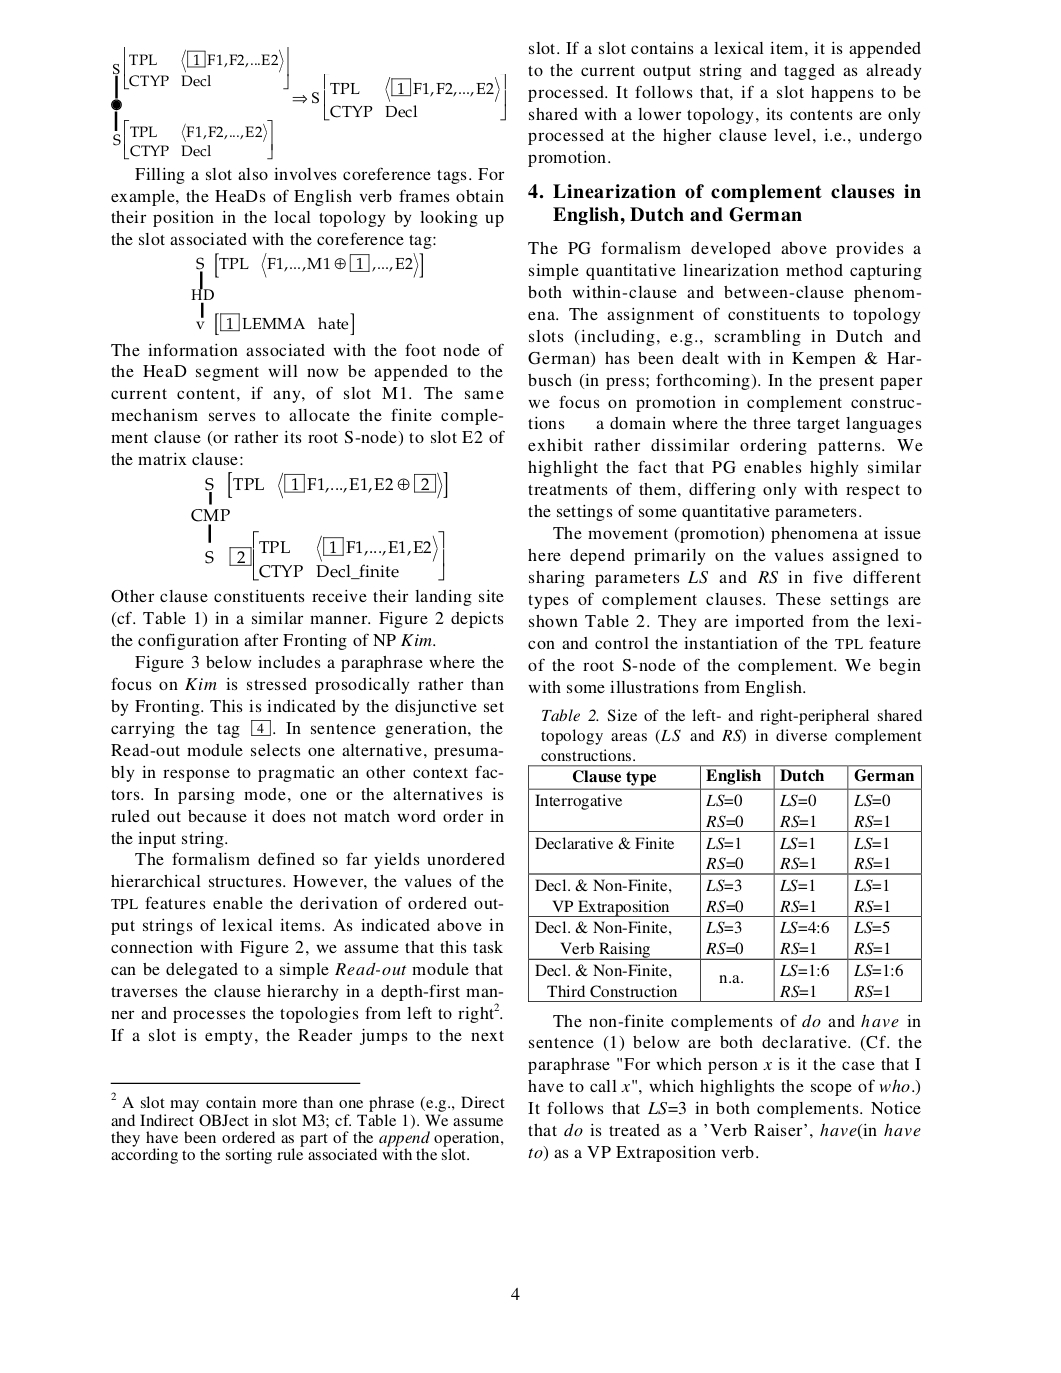Table: (528, 765, 921, 1002)
figure: (111, 46, 505, 160), (191, 473, 447, 580), (191, 253, 422, 334)
